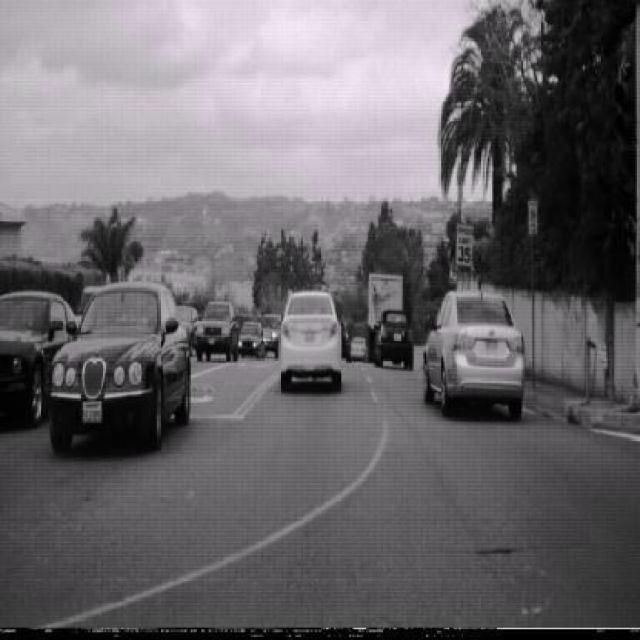speedLimit35: (454, 222, 473, 269)
